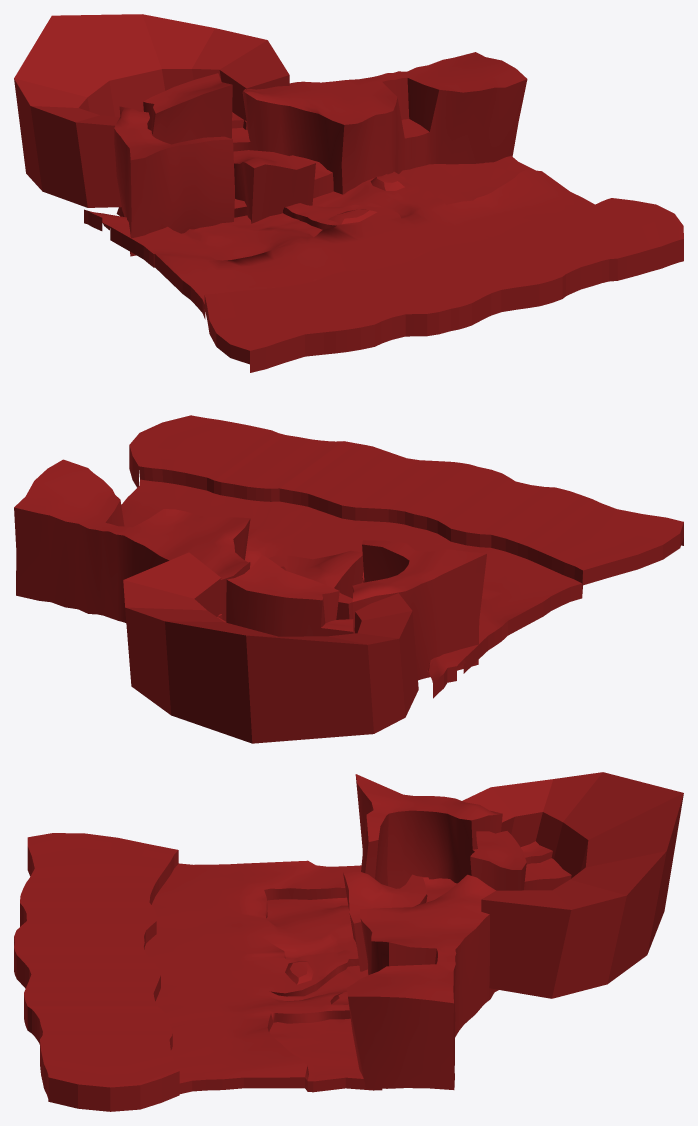
Rendered from Zone2Final 4.FBX.
The picture shows the model from 3 angles, top to bottom: view 1: azimuth 30°, elevation 25°; view 2: azimuth 150°, elevation 25°; view 3: azimuth 270°, elevation 25°; orthographic projection. The views are drawn at different scales.
Visible parts, largest first — view 1: Plane001; view 2: Plane001; view 3: Plane001.
Part boxes in pixels (x1,y1,x2,y2): Plane001: (14, 14, 683, 372); Plane001: (14, 415, 683, 743); Plane001: (14, 772, 683, 1111).
Bounding box in the file's own units: 15924 × 4241 × 17968.
